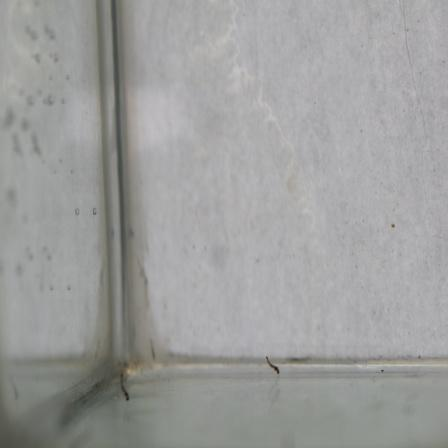Jentik-Nyamuk: (119, 370, 131, 403), (263, 354, 281, 376)
